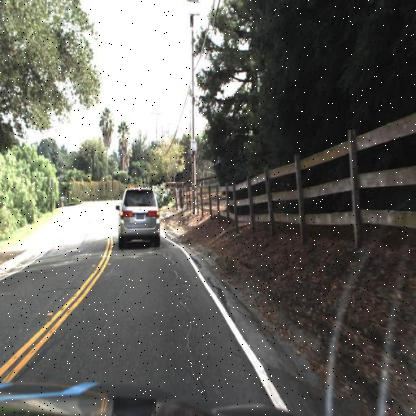car: (107, 175, 168, 267)
